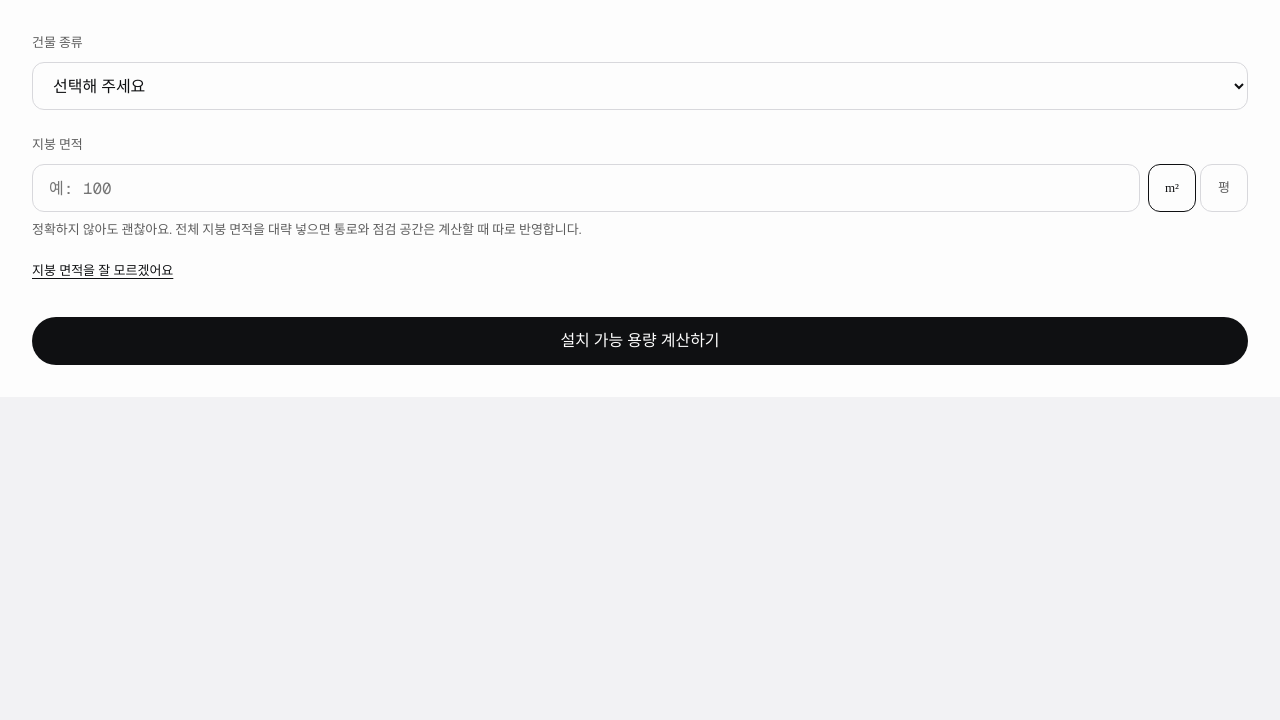
SolarCalculator › calculates installable capacity from inputs a general user can understand
Select "주택" in the dropdown labelled "건물 종류": (640,86) [32,62,1248,110]
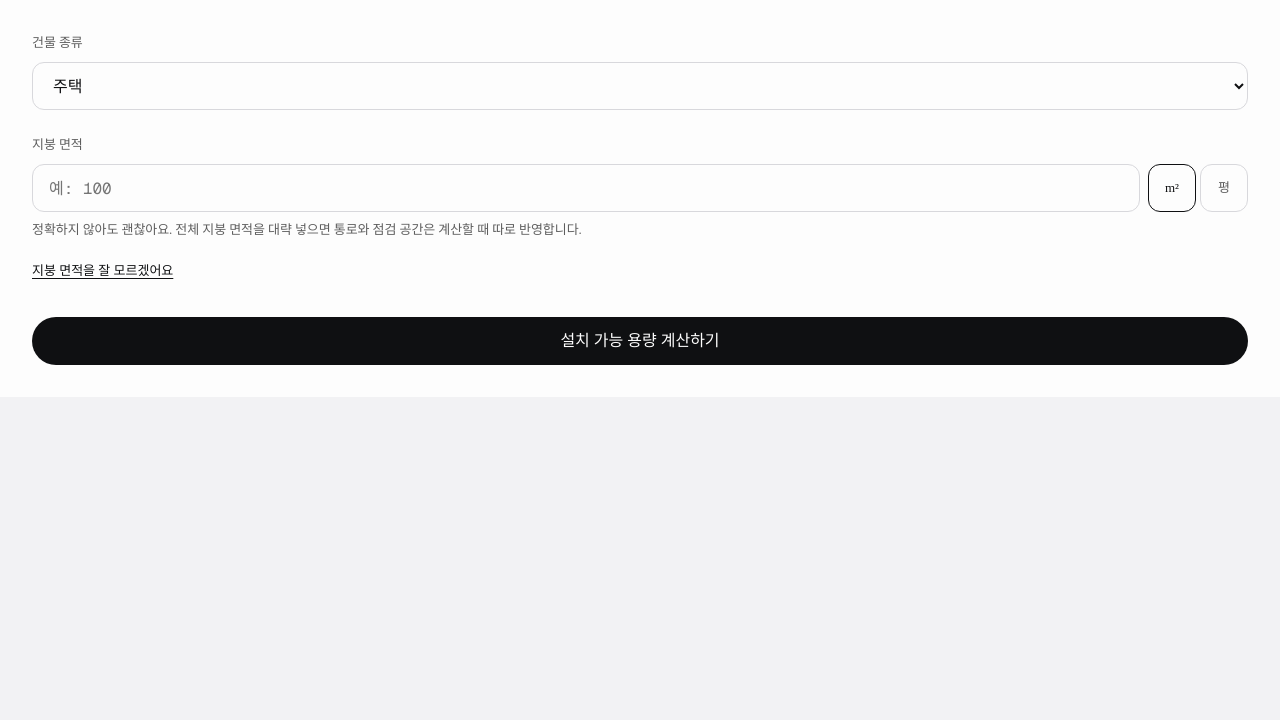
In the number field labelled "지붕 면적": (586,188) [32,164,1140,212], type "100"
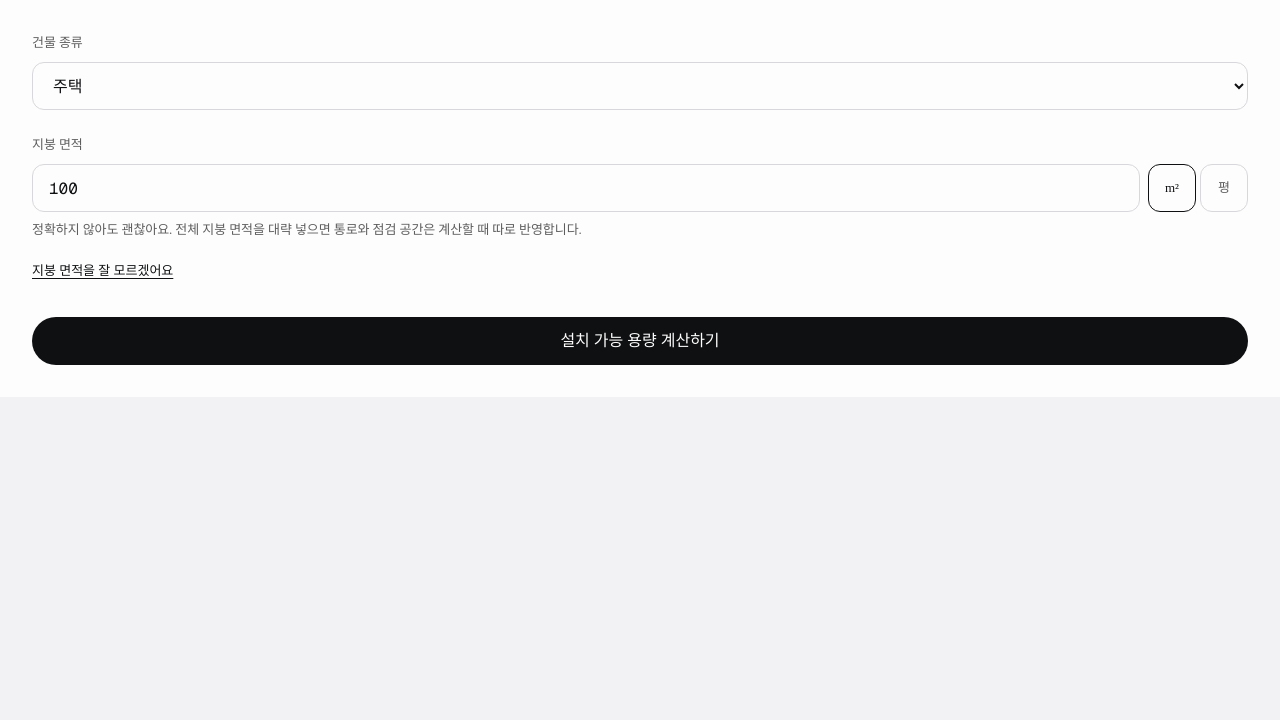
Click the button "설치 가능 용량 계산하기": (640,341) [32,317,1248,365]
(page scrolled)
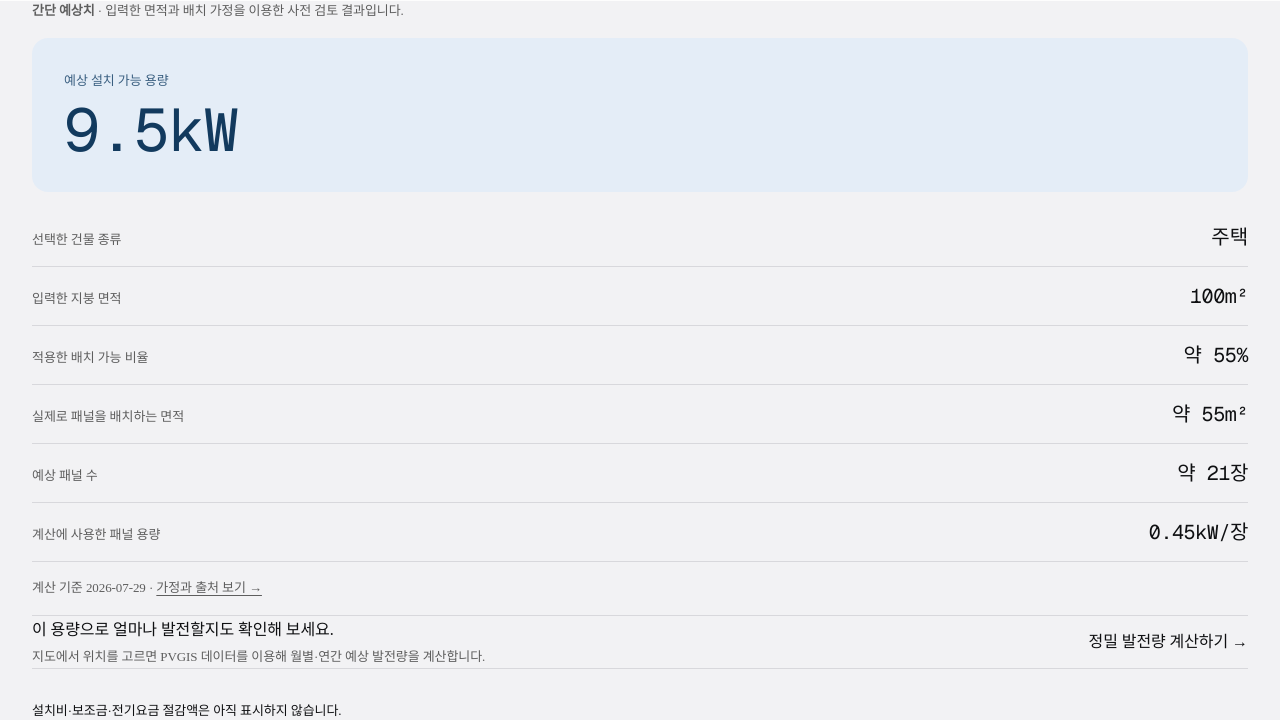
Result: the text "예상 설치 가능 용량" is shown at [64,73,169,88]
Result: the text "9.5kW" is shown at [64,91,238,169]
Result: the text "약 21장" is shown at [1177,456,1248,490]
